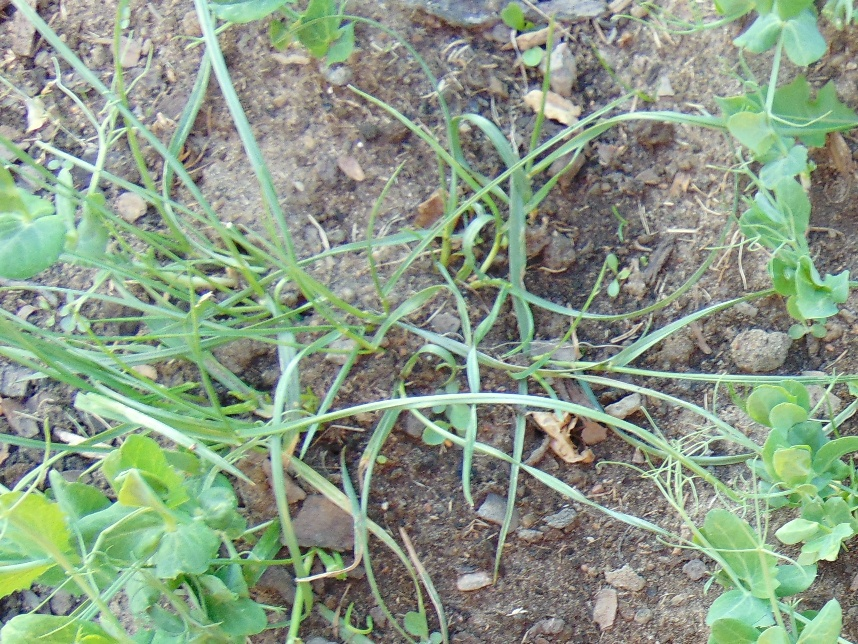crop: (622, 386, 858, 644), (1, 430, 267, 644), (712, 106, 846, 323), (670, 1, 855, 135), (1, 91, 123, 284), (201, 1, 354, 62)
weed: (143, 187, 430, 453), (339, 76, 626, 342), (421, 385, 469, 444), (44, 288, 99, 333), (784, 298, 828, 340), (402, 609, 442, 644), (604, 253, 628, 298)
